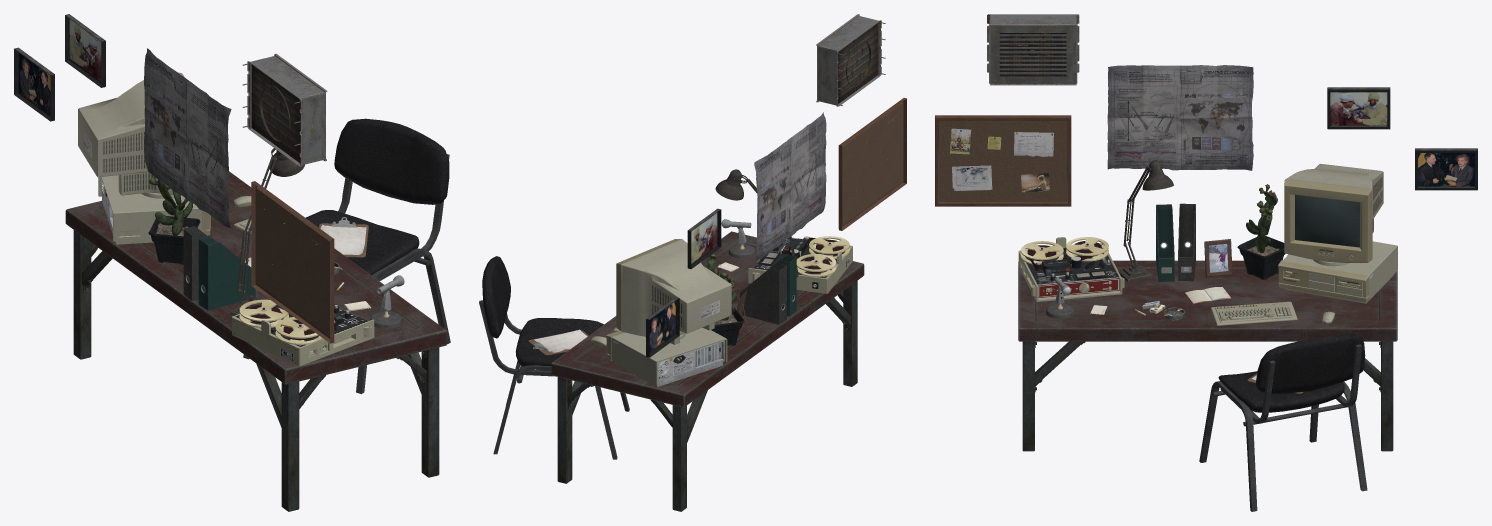
File: office.glb
3 views of the same model, side by side, from view 1: azimuth 30°, elevation 25°; view 2: azimuth 150°, elevation 25°; view 3: azimuth 270°, elevation 25° (orthographic). The views are drawn at different scales.
Visible parts, largest first — view 1: Object_68, Object_107, Object_95, Object_10, Object_26, Object_75, Object_97, Object_18, Object_70, Object_71, Object_4, Object_109 (+1 smaller); view 2: Object_68, Object_10, Object_95, Object_26, Object_107, Object_75, Object_97, Object_18, Object_71, Object_70, Object_4, Object_101 (+1 smaller); view 3: Object_68, Object_95, Object_10, Object_26, Object_107, Object_75, Object_97, Object_70, Object_18, Object_71, Object_4, Object_109 (+1 smaller).
Boxes of the visible parts, left/top/right/bottom form: Object_68: left=65, top=171, right=447, bottom=511; Object_107: left=243, top=118, right=450, bottom=393; Object_95: left=144, top=48, right=231, bottom=228; Object_10: left=78, top=72, right=251, bottom=244; Object_26: left=251, top=181, right=371, bottom=343; Object_75: left=242, top=53, right=327, bottom=166; Object_97: left=14, top=14, right=105, bottom=121; Object_18: left=183, top=226, right=255, bottom=310; Object_70: left=232, top=304, right=374, bottom=366; Object_71: left=239, top=275, right=404, bottom=344; Object_4: left=148, top=177, right=200, bottom=264; Object_109: left=230, top=148, right=304, bottom=315; Object_68: left=551, top=231, right=864, bottom=511; Object_10: left=591, top=239, right=731, bottom=386; Object_95: left=754, top=112, right=826, bottom=260; Object_26: left=718, top=98, right=906, bottom=329; Object_107: left=479, top=256, right=629, bottom=459; Object_75: left=816, top=14, right=885, bottom=106; Object_97: left=646, top=208, right=721, bottom=357; Object_18: left=740, top=254, right=796, bottom=324; Object_71: left=721, top=219, right=849, bottom=276; Object_70: left=748, top=236, right=852, bottom=293; Object_4: left=707, top=254, right=744, bottom=345; Object_101: left=528, top=329, right=588, bottom=355; Object_68: left=1018, top=260, right=1397, bottom=451; Object_95: left=1107, top=65, right=1253, bottom=170; Object_10: left=1210, top=163, right=1397, bottom=325; Object_26: left=935, top=115, right=1232, bottom=314; Object_107: left=1199, top=333, right=1367, bottom=511; Object_75: left=987, top=14, right=1079, bottom=85; Object_97: left=1327, top=87, right=1477, bottom=190; Object_70: left=1018, top=237, right=1124, bottom=301; Object_18: left=1156, top=203, right=1195, bottom=281; Object_71: left=1021, top=237, right=1108, bottom=318; Object_4: left=1237, top=184, right=1285, bottom=279; Object_109: left=1117, top=160, right=1173, bottom=281.
Size of the model in its own units: 1.72 by 2.18 by 2.89.
14 materials, 14 textured.
